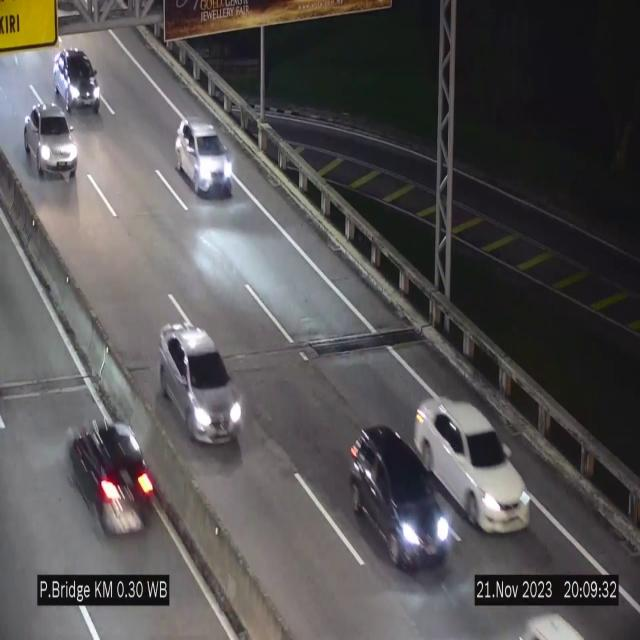Car: (413, 399, 532, 532), (344, 428, 449, 578), (65, 400, 157, 542), (160, 322, 242, 442), (21, 103, 81, 184), (175, 119, 234, 195), (48, 46, 100, 111)
